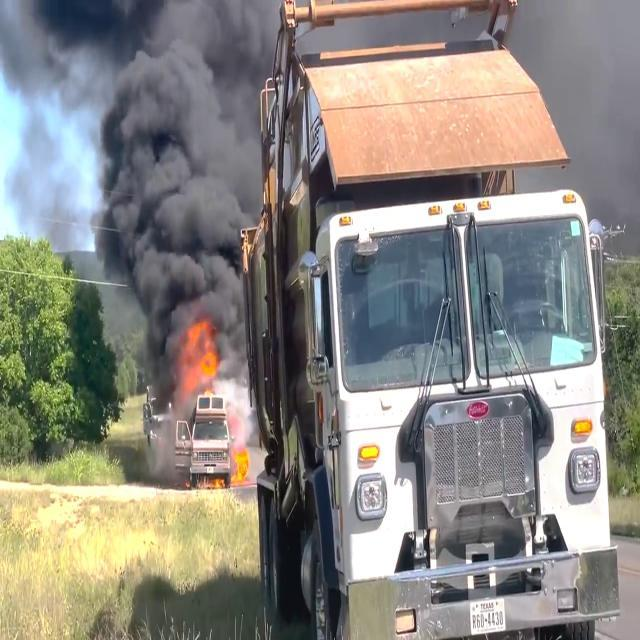Fire: (178, 316, 222, 392), (232, 442, 252, 484)
Smoke: (40, 0, 274, 343), (512, 0, 640, 229), (0, 0, 96, 238)
